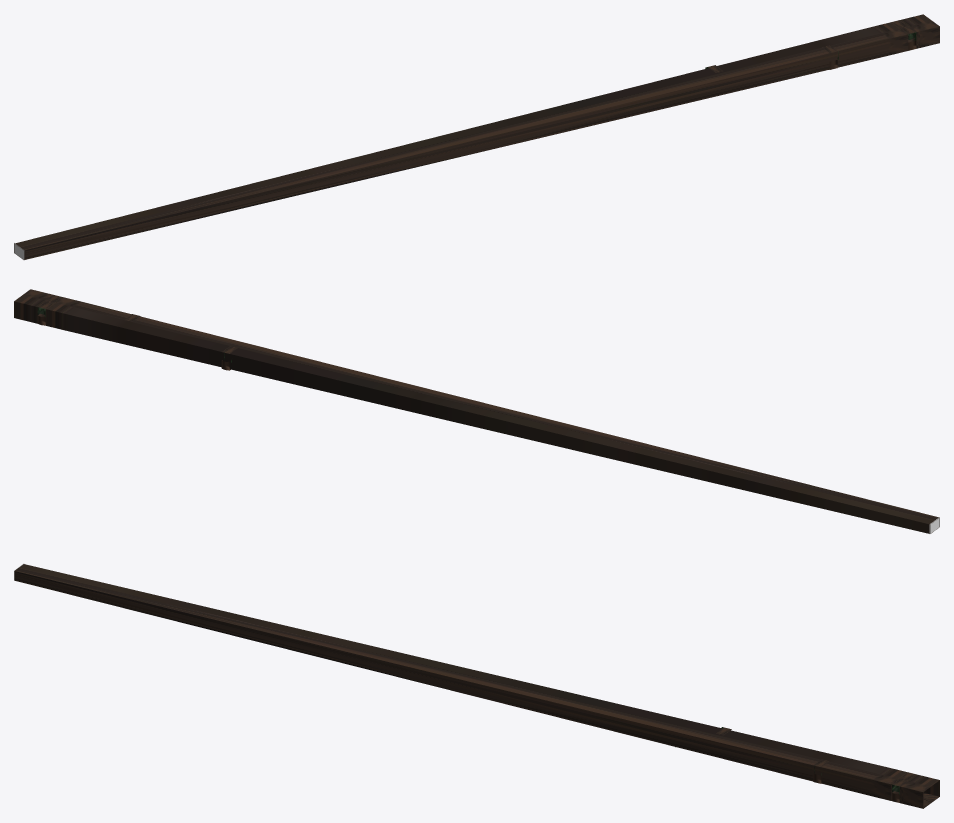
The model's file is forest.glb.
3 renders of one model, top to bottom at view 1: azimuth 30°, elevation 25°; view 2: azimuth 150°, elevation 25°; view 3: azimuth 330°, elevation 25°, orthographic.
Parts seen in each view (by area): view 1: Cube.006, Cube.004; view 2: Cube.006, Cube.004; view 3: Cube.006, Cube.004.
Boxes of the visible parts, x1,y1,x2,y2 form: Cube.006: (14, 22, 908, 259); Cube.004: (900, 14, 939, 48); Cube.006: (45, 297, 939, 533); Cube.004: (14, 289, 53, 323); Cube.006: (14, 564, 907, 800); Cube.004: (899, 774, 939, 808).
Bounding box in the file's own units: 115 × 2.05 × 3.72.
26 materials, 25 textured.
